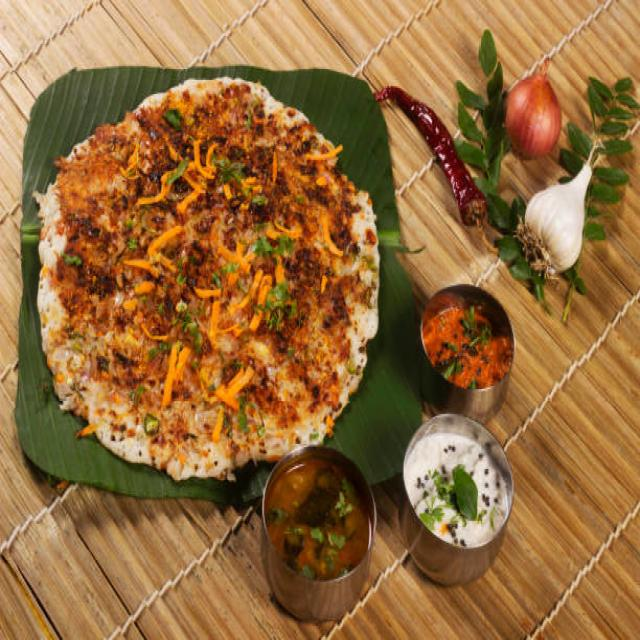DOSA: (24, 68, 386, 467)
RED CHUTNEY: (414, 281, 526, 390)
SAMBAR: (254, 453, 371, 585)
WHITE CHUTNEY: (388, 410, 535, 596)
